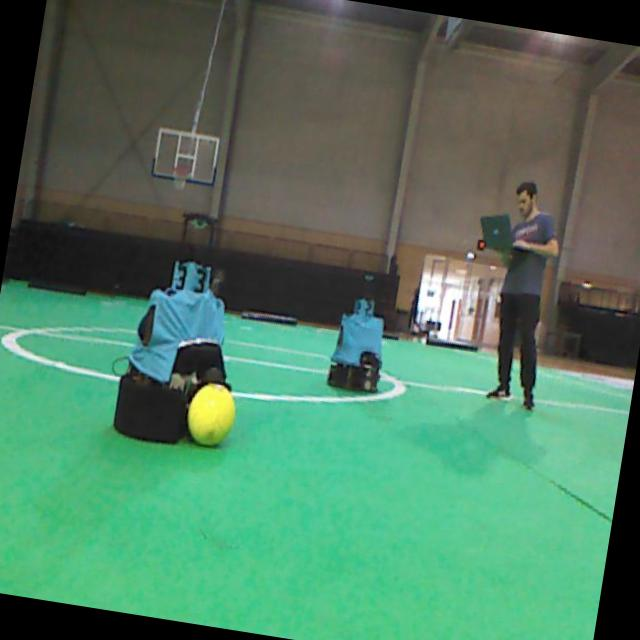ball: (187, 383, 235, 445)
